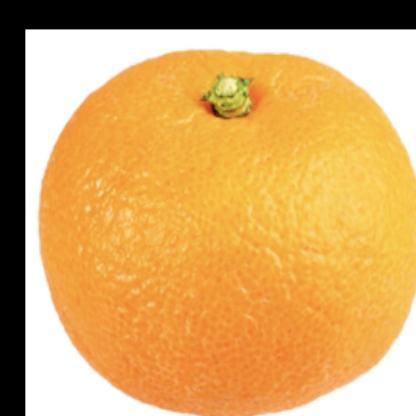fresh: (38, 48, 416, 416)
